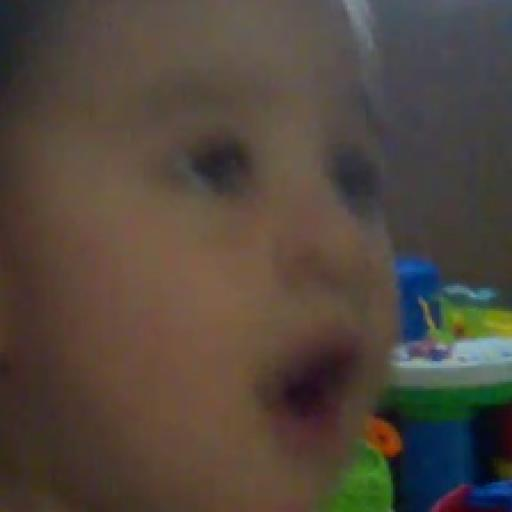Autism: (7, 4, 433, 488)
